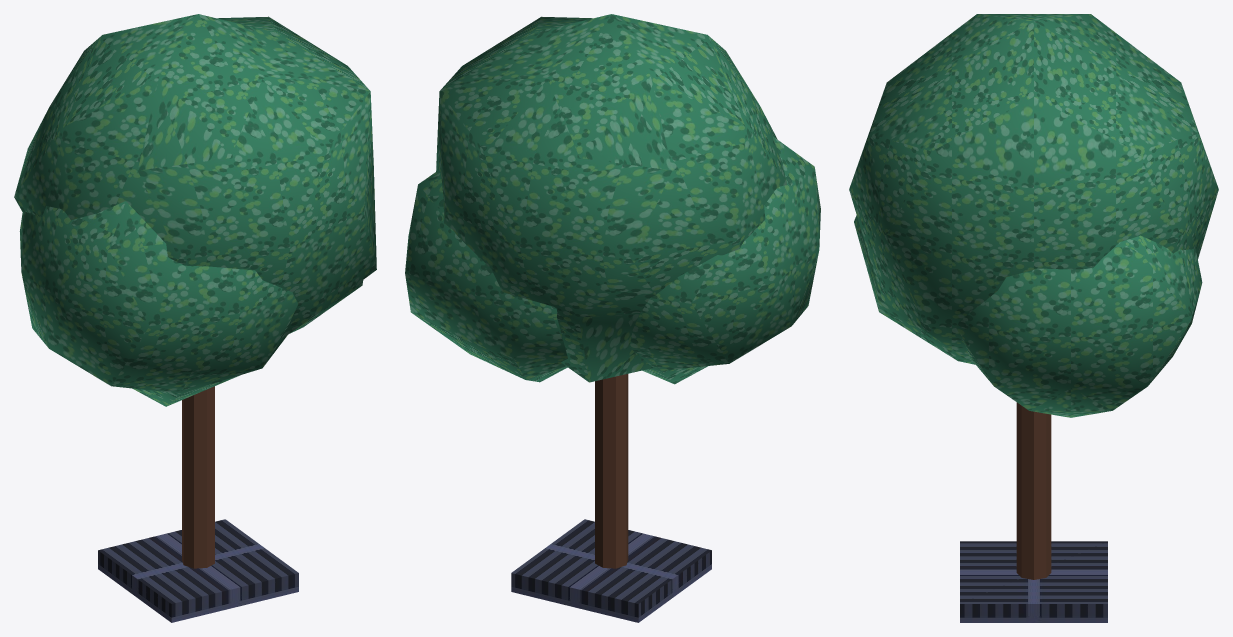
File: tree.glb
3 renders of one model, left to right at view 1: azimuth 30°, elevation 25°; view 2: azimuth 150°, elevation 25°; view 3: azimuth 270°, elevation 25°, orthographic.
Visible parts, largest first — view 1: tree; view 2: tree; view 3: tree.
Boxes of the visible parts, x1=… form: tree: x1=14, y1=14, x2=376, y2=622; tree: x1=405, y1=14, x2=820, y2=622; tree: x1=849, y1=14, x2=1218, y2=622.
Size of the model in its own units: 3.14 by 5.1 by 3.
Materials: 3 (2 with a texture image).
